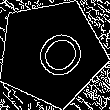O_SW: (18, 19, 85, 86)
